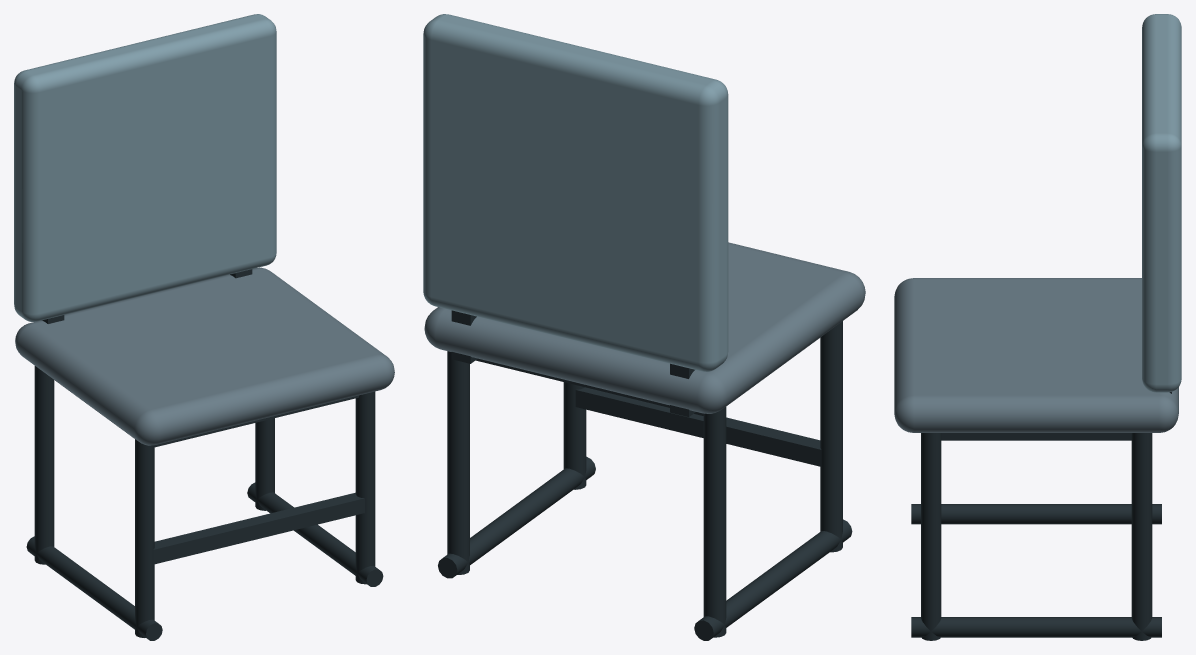
3 views of the same model, side by side, from view 1: azimuth 30°, elevation 25°; view 2: azimuth 150°, elevation 25°; view 3: azimuth 270°, elevation 25° (orthographic). The views are drawn at different scales.
Visible parts, largest first — view 1: chair-back, chair-seat, sled-front-crossbar, rear-leg-left, front-leg-left, front-leg-right, sled-left, sled-right, rear-leg-right, seat-support-rail; view 2: chair-back, chair-seat, sled-front-crossbar, rear-leg-left, front-leg-left, rear-leg-right, sled-right, sled-left, front-leg-right, seat-support-rail; view 3: chair-seat, chair-back, sled-right, sled-left, rear-leg-right, front-leg-right, seat-support-rail.
Boxes of the visible parts, x1,y1,x2,y2 form: chair-back: (14, 14, 276, 321); chair-seat: (15, 267, 394, 445); sled-front-crossbar: (153, 492, 364, 564); rear-leg-left: (34, 366, 54, 564); front-leg-left: (135, 439, 154, 637); front-leg-right: (355, 391, 375, 584); sled-left: (26, 536, 162, 640); sled-right: (247, 482, 383, 586); rear-leg-right: (255, 418, 274, 510); seat-support-rail: (55, 380, 358, 447); chair-back: (423, 14, 728, 371); chair-seat: (424, 242, 865, 413); sled-front-crossbar: (575, 387, 821, 466); rear-leg-left: (703, 406, 726, 637); front-leg-left: (820, 321, 842, 552); rear-leg-right: (447, 351, 469, 574); sled-right: (438, 456, 595, 578); sled-left: (694, 519, 852, 640); front-leg-right: (563, 382, 586, 489); seat-support-rail: (475, 335, 823, 415); chair-seat: (894, 278, 1178, 432); chair-back: (1142, 14, 1181, 392); sled-right: (911, 617, 1161, 637); sled-left: (911, 504, 1161, 524); rear-leg-right: (1131, 433, 1152, 640); front-leg-right: (921, 433, 941, 640); seat-support-rail: (941, 433, 1131, 440).
Bounding box in the file's own units: 0.55 × 0.98 × 0.505.
